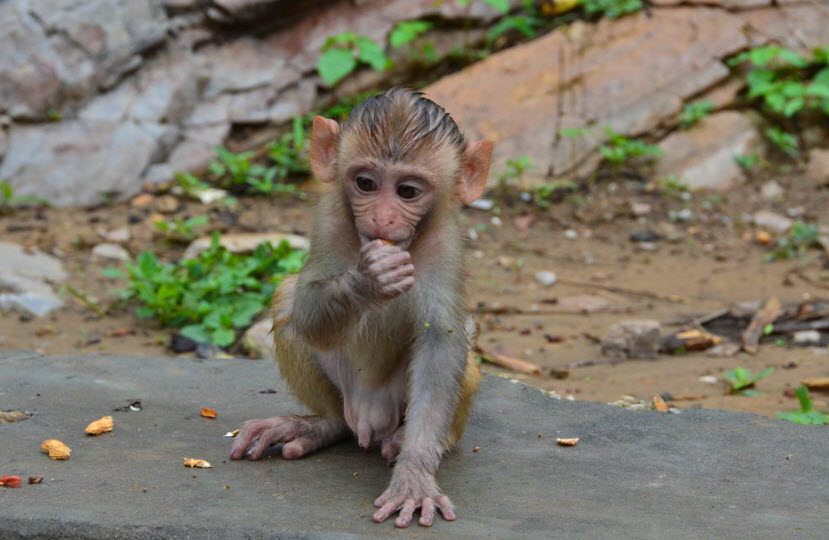monkey: (223, 84, 529, 528)
